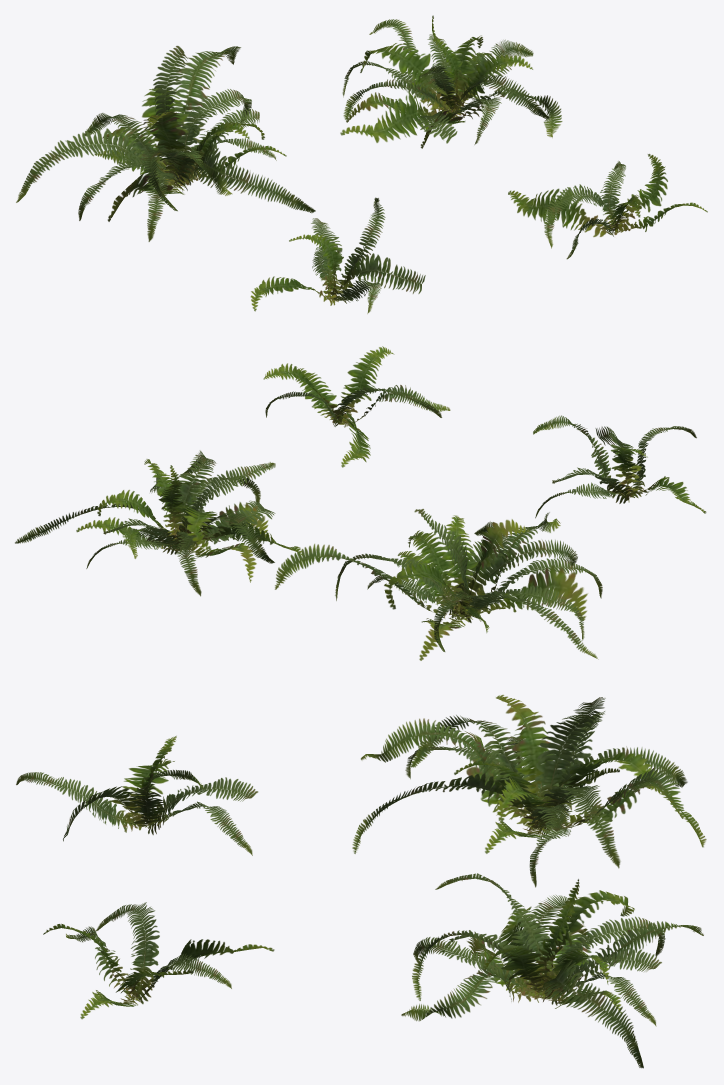
File: fern_02.glb
3 views of the same model, one above another, from view 1: azimuth 30°, elevation 25°; view 2: azimuth 150°, elevation 25°; view 3: azimuth 270°, elevation 25° (orthographic). The views are drawn at different scales.
Parts seen in each view (by area): view 1: fern_02_b, fern_02_c, fern_02_a, fern_02_d; view 2: fern_02_b, fern_02_c, fern_02_d, fern_02_a; view 3: fern_02_b, fern_02_c, fern_02_a, fern_02_d.
Boxes of the visible parts, left/top/right/bottom form: fern_02_b: left=16, top=45, right=315, bottom=241; fern_02_c: left=340, top=15, right=562, bottom=148; fern_02_a: left=250, top=197, right=425, bottom=313; fern_02_d: left=508, top=154, right=707, bottom=259; fern_02_b: left=275, top=509, right=602, bottom=660; fern_02_c: left=15, top=450, right=302, bottom=596; fern_02_d: left=263, top=346, right=450, bottom=467; fern_02_a: left=533, top=415, right=706, bottom=518; fern_02_b: left=352, top=694, right=706, bottom=887; fern_02_c: left=401, top=873, right=703, bottom=1068; fern_02_a: left=16, top=736, right=258, bottom=855; fern_02_d: left=43, top=902, right=274, bottom=1019.
Bounding box in the file's own units: 1.97 × 0.4277 × 1.72.
1 material, 1 textured.
